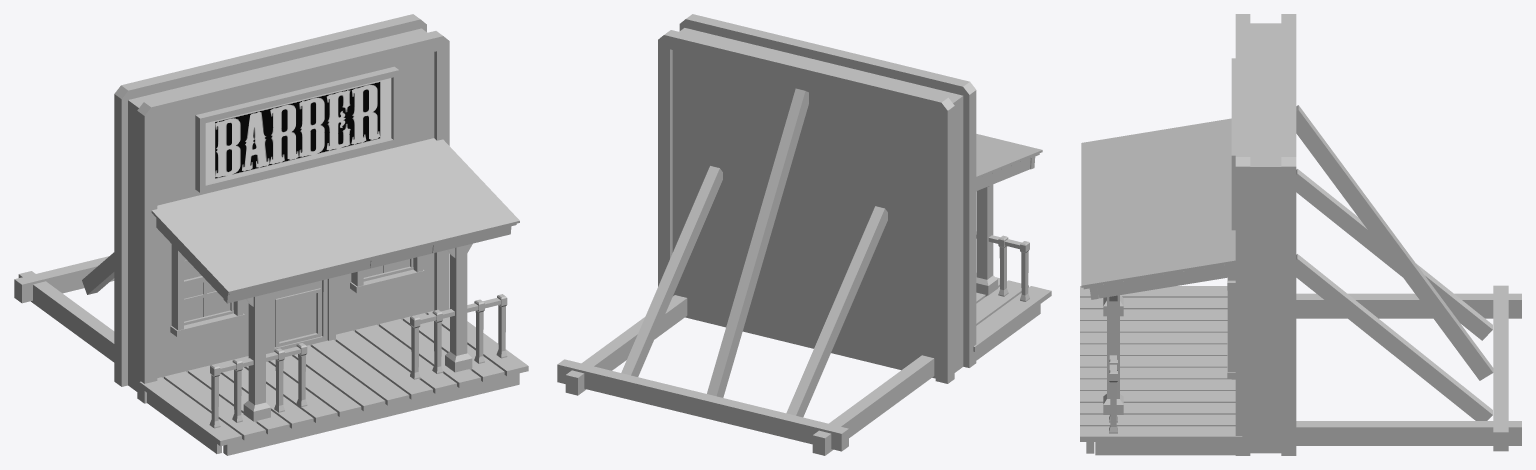
The model's file is SM_BARBER.fbx.
3 renders of one model, left to right at view 1: azimuth 30°, elevation 25°; view 2: azimuth 150°, elevation 25°; view 3: azimuth 270°, elevation 25°, orthographic. The views are drawn at different scales.
Parts seen in each view (by area): view 1: SM_BARBER; view 2: SM_BARBER; view 3: SM_BARBER.
Part boxes in pixels (box(x1,y1,x2,y2)): SM_BARBER: box(14, 14, 528, 455); SM_BARBER: box(557, 14, 1051, 455); SM_BARBER: box(1080, 14, 1521, 455).
Size of the model in its own units: 618 by 565 by 765.
